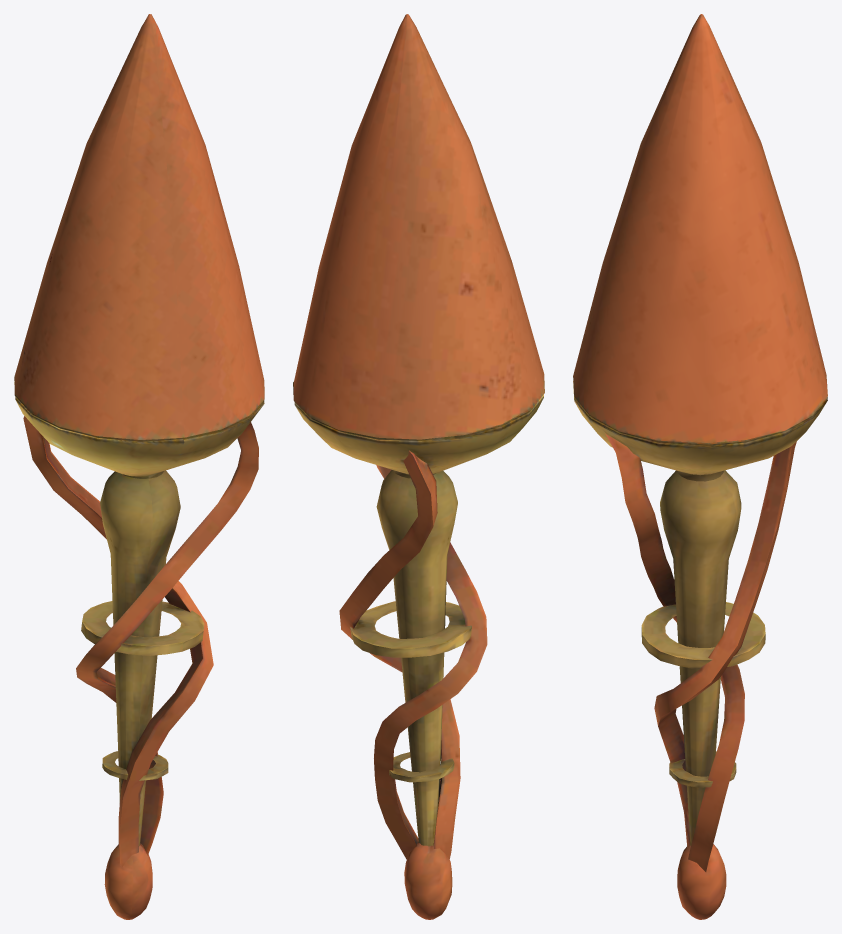
The model's file is bullet1.fbx.
3 views of the same model, side by side, from view 1: azimuth 30°, elevation 25°; view 2: azimuth 150°, elevation 25°; view 3: azimuth 270°, elevation 25° (orthographic).
Visible parts, largest first — view 1: Bulittop; view 2: Bulittop; view 3: Bulittop.
Boxes of the visible parts, x1,y1,x2,y2 form: Bulittop: (14, 14, 264, 919); Bulittop: (293, 14, 544, 919); Bulittop: (573, 14, 827, 919).
Size of the model in its own units: 4.95 by 19.35 by 4.88.
1 material, 1 textured.
